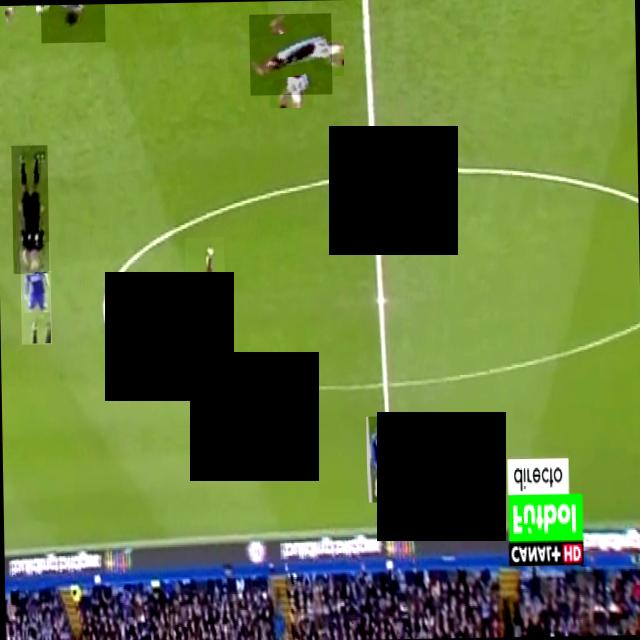referee: (11, 144, 49, 274)
soccer-player: (249, 13, 332, 95), (184, 236, 226, 362), (428, 454, 492, 517), (19, 242, 52, 344), (40, 4, 106, 43), (366, 416, 392, 502), (0, 4, 42, 44)
